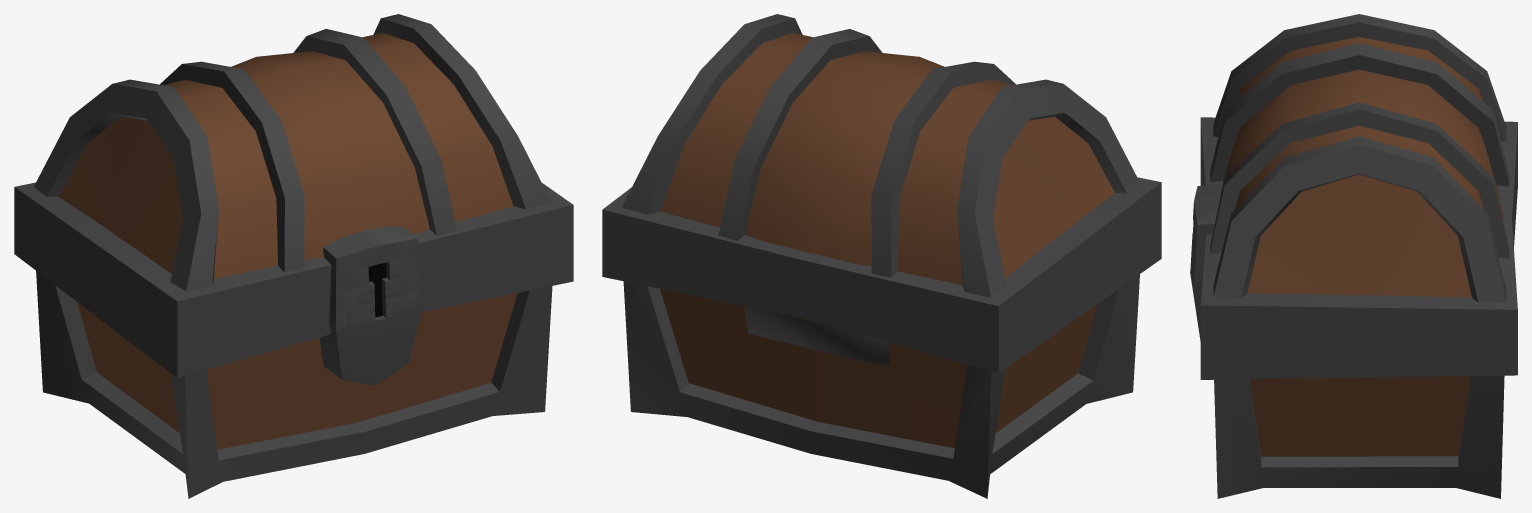
File: chestNew.fbx
3 views of the same model, side by side, from view 1: azimuth 30°, elevation 25°; view 2: azimuth 150°, elevation 25°; view 3: azimuth 270°, elevation 25° (orthographic). The views are drawn at different scales.
Visible parts, largest first — view 1: Top, Bottom; view 2: Top, Bottom; view 3: Top, Bottom.
Part boxes in pixels (x1,y1,x2,y2): Top: (14, 14, 573, 377); Bottom: (36, 271, 552, 498); Top: (602, 14, 1161, 373); Bottom: (623, 274, 1139, 498); Top: (1190, 14, 1517, 379); Bottom: (1191, 280, 1504, 498).
Bounding box in the file's own units: 95.39 × 79.99 × 70.3.
